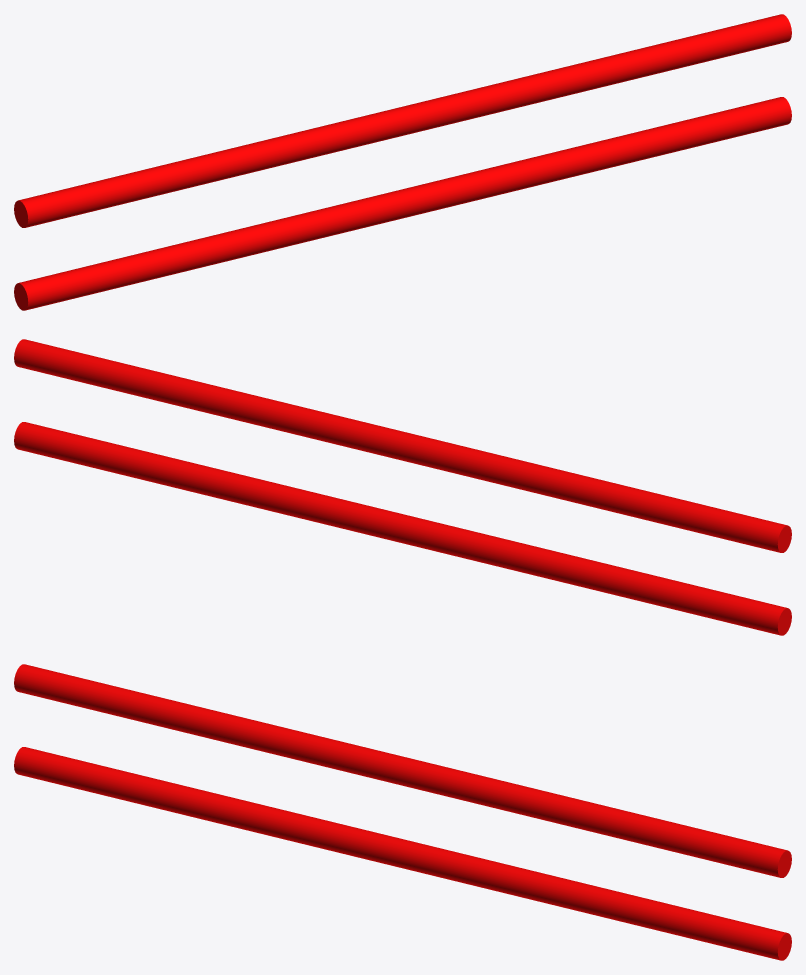
Rendered from redGate.FBX.
3 views of the same model, one above another, from view 1: azimuth 30°, elevation 25°; view 2: azimuth 150°, elevation 25°; view 3: azimuth 330°, elevation 25° (orthographic).
Visible parts, largest first — view 1: Cylinder001, Cylinder002; view 2: Cylinder001, Cylinder002; view 3: Cylinder001, Cylinder002.
Boxes of the visible parts, x1,y1,x2,y2 form: Cylinder001: [14, 97, 791, 310]; Cylinder002: [14, 14, 791, 227]; Cylinder001: [14, 422, 791, 635]; Cylinder002: [14, 339, 791, 552]; Cylinder001: [14, 747, 791, 960]; Cylinder002: [14, 664, 791, 877].
Size of the model in its own units: 1.83 by 0.2471 by 0.059.
